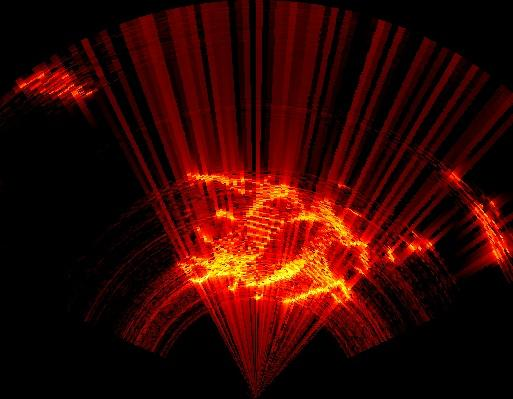shipwreck: (177, 171, 372, 303), (465, 192, 512, 261), (22, 70, 92, 97)
